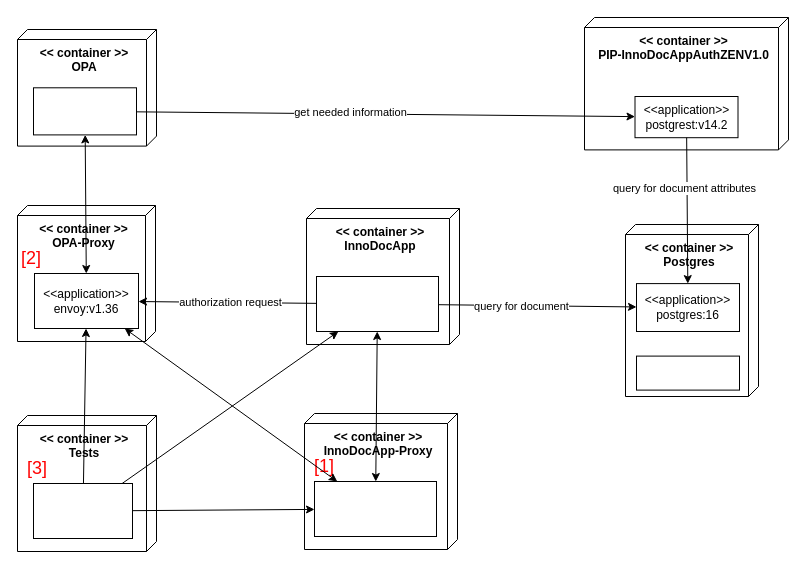
Some shapes in this 806 by 571 pixel diagram are drawn without their labels. The centre of each missing label's shape, as x and y in pixels:
<<application>> E2E + Integration tests: pixel 82 510
<<application>> InnoDocApp-Proxy: pixel 375 508
<<application>> InnoDocAppAuthZEN: pixel 377 304
<<application>> opa:latest: pixel 84 111
<<script>> init.sql: pixel 688 372
